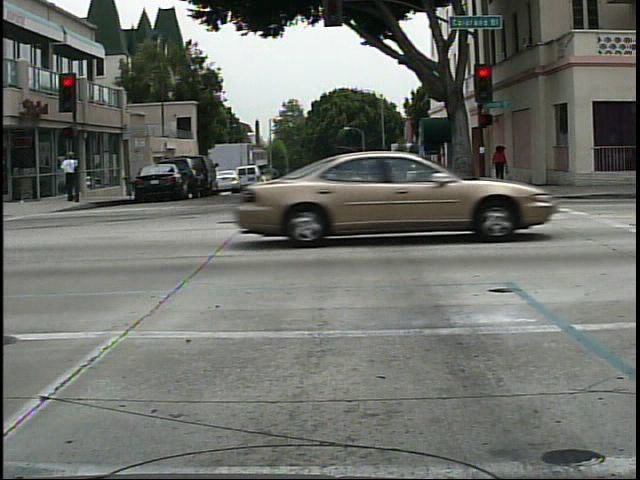person: (58, 143, 79, 206), (489, 140, 510, 185)
